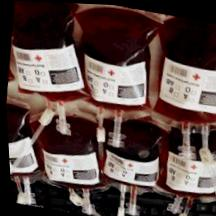Fire: (5, 0, 216, 196)
